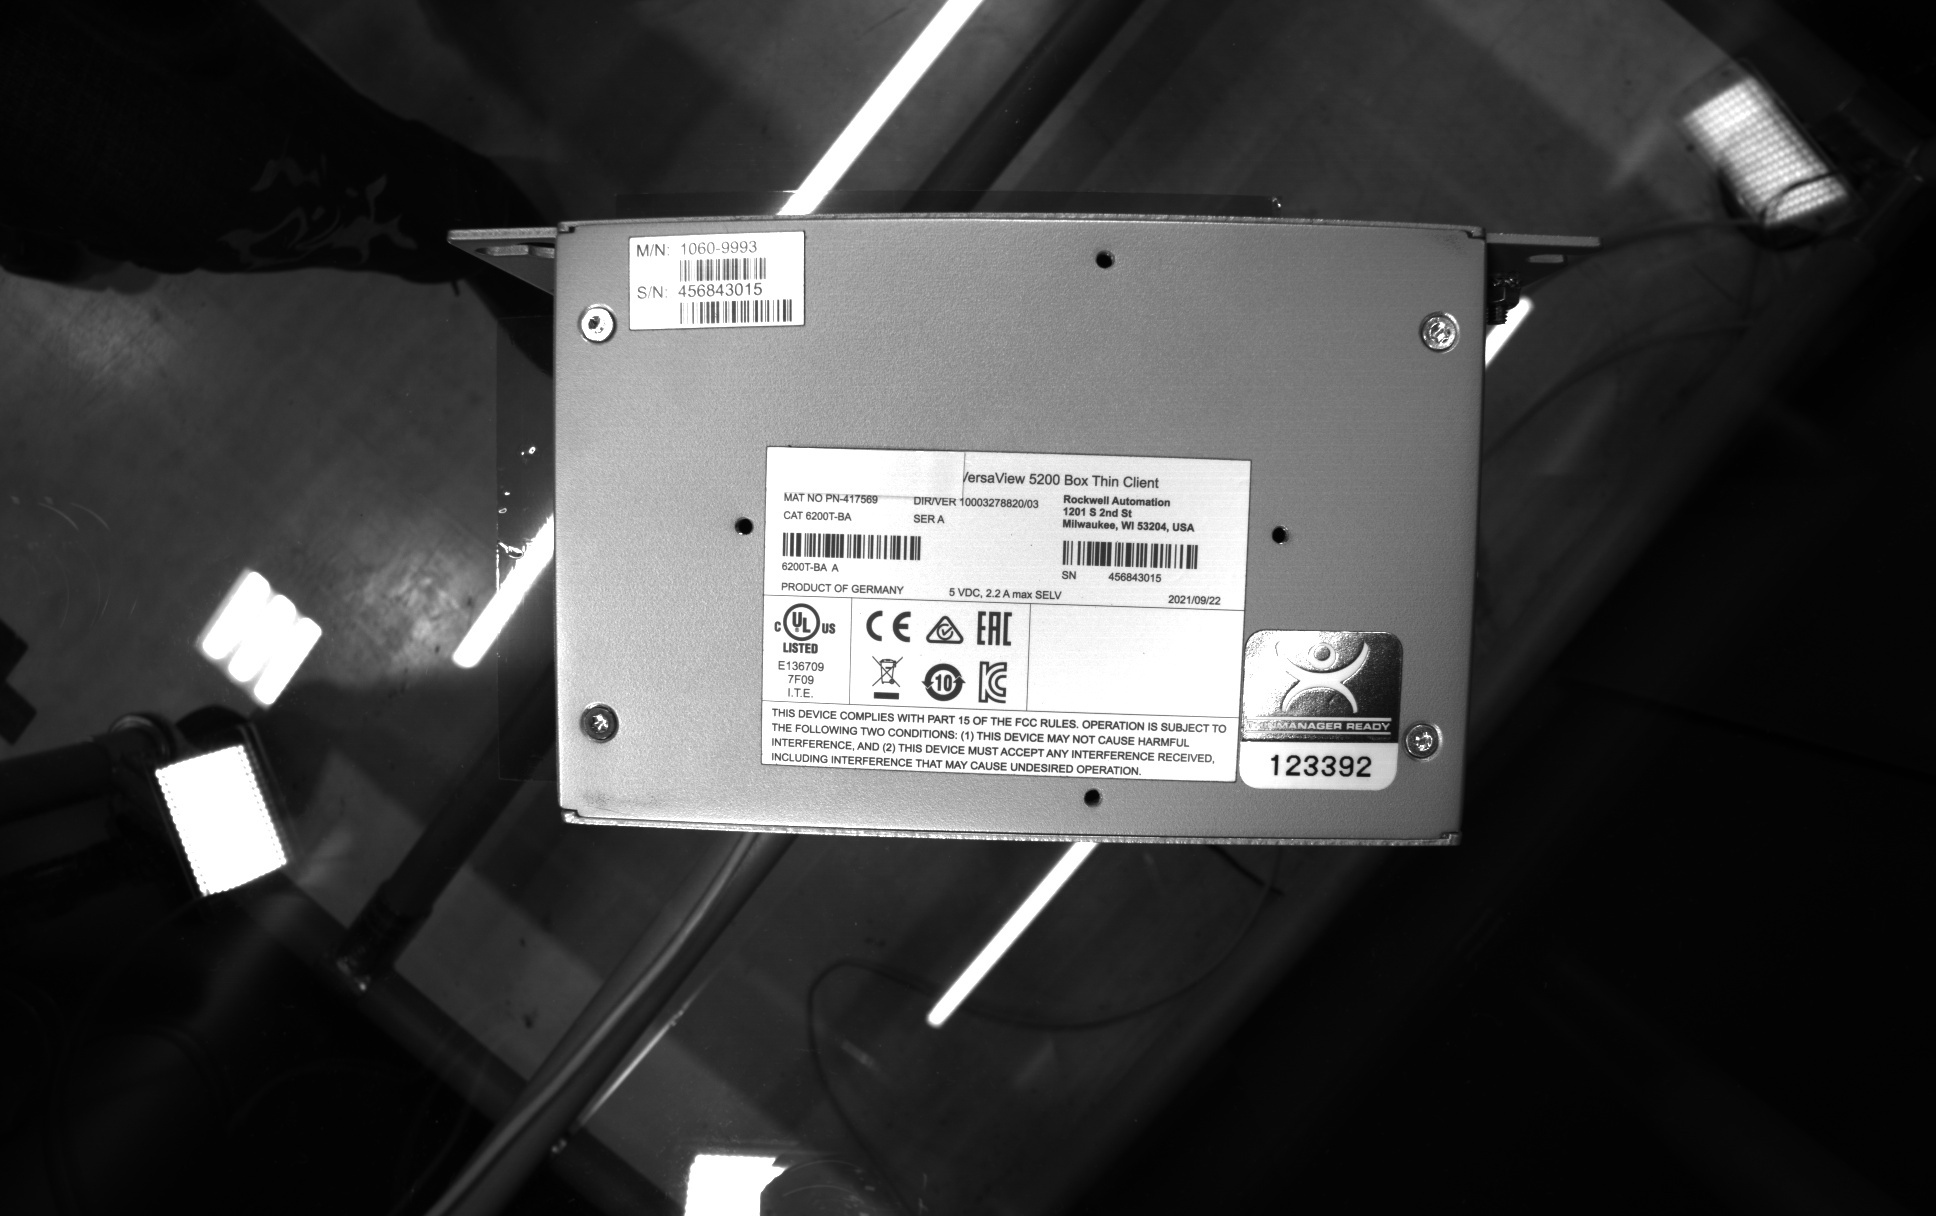Barcode: (773, 525, 930, 565), (1053, 535, 1206, 573), (672, 291, 798, 331), (672, 249, 772, 284)
CamTop: (530, 200, 1512, 863)
Label_Seriennummer: (749, 434, 1262, 796)
Loch_Montage: (721, 504, 762, 551), (1073, 780, 1116, 820), (1261, 514, 1300, 555), (1086, 240, 1125, 276)
Schraube: (1411, 305, 1467, 359), (574, 698, 626, 754), (1399, 712, 1450, 766), (572, 298, 622, 352)
